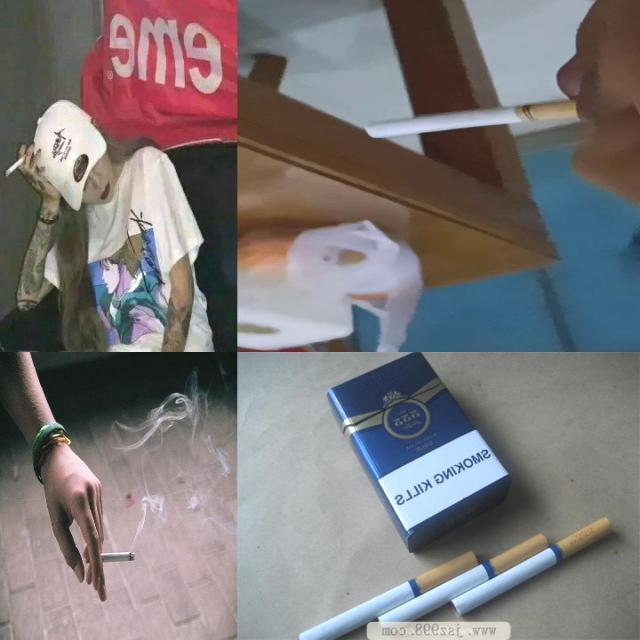smoke: (376, 533, 550, 631), (450, 516, 613, 618), (298, 550, 478, 640), (360, 100, 580, 140), (84, 550, 136, 566), (6, 151, 30, 177)
